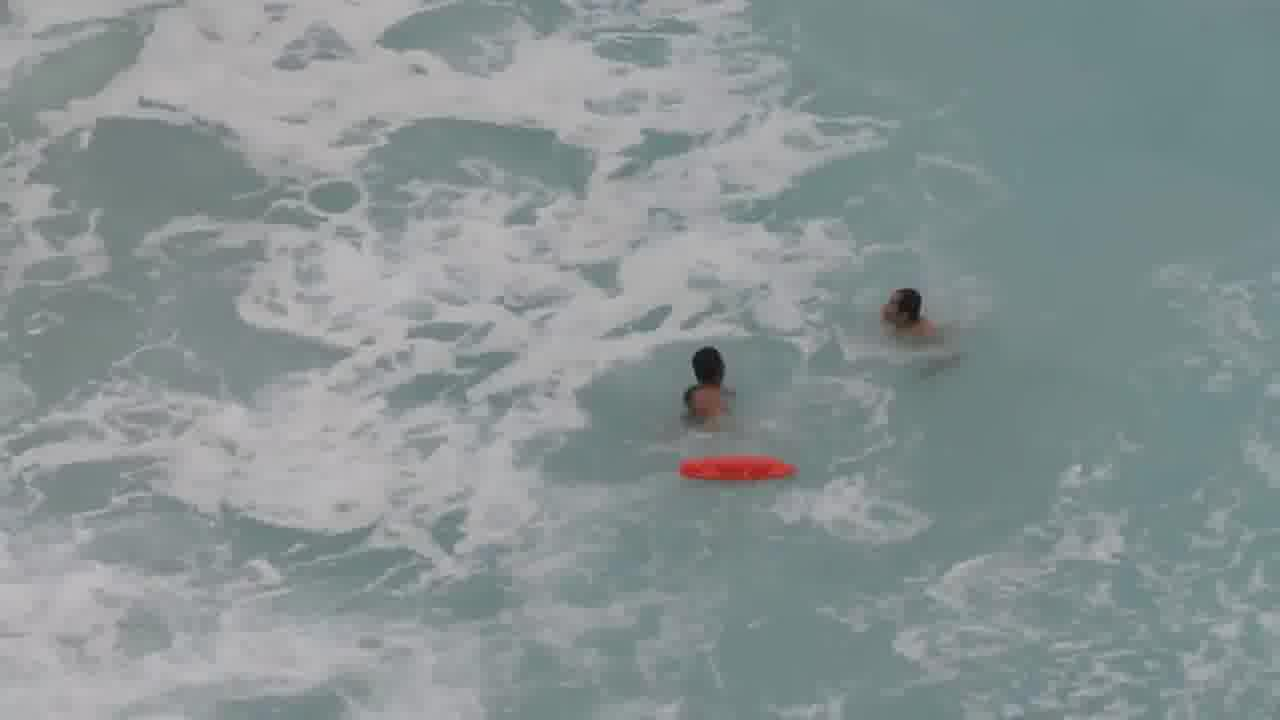swimmer: (679, 338, 737, 417), (871, 277, 939, 340)
